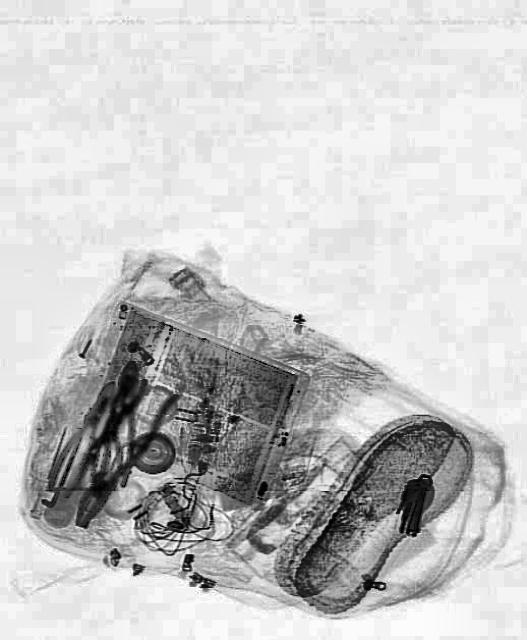Pliers: (58, 368, 178, 540), (83, 354, 153, 488)
